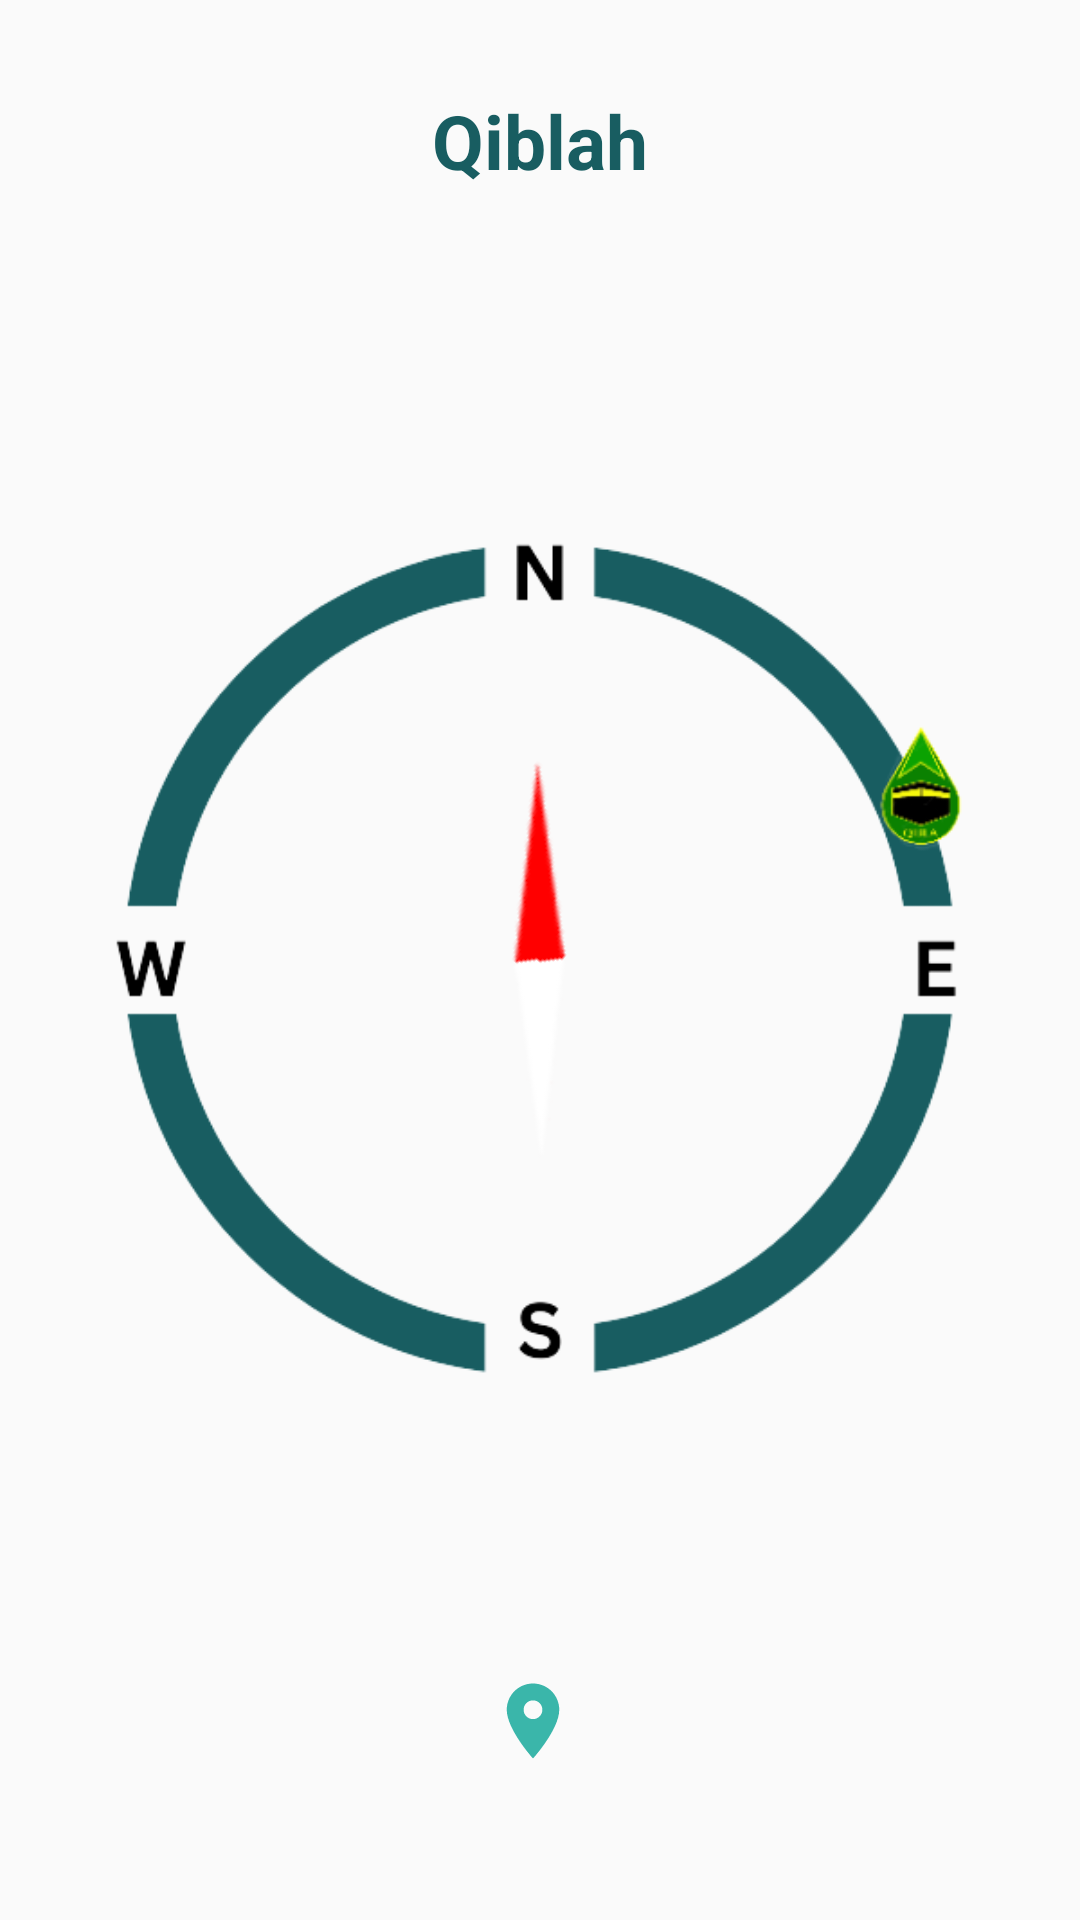

Icon bounding boxes for this 1080px x 1920px phone screenshot, format (x1, y1, x2, y2):
location: (506, 1683, 560, 1758)
